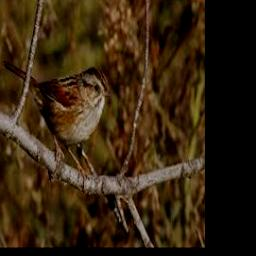Sparrow: (4, 61, 111, 189)
